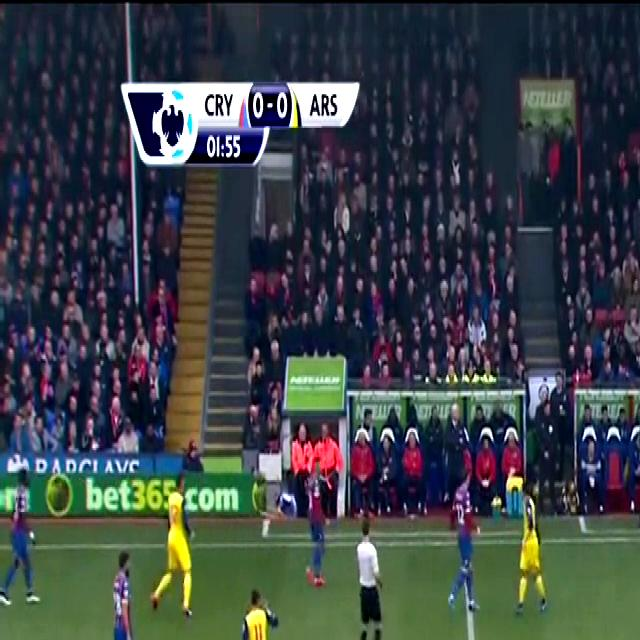referee: (347, 514, 391, 640)
soccer-player: (151, 472, 195, 630), (516, 472, 558, 626), (440, 488, 482, 621), (1, 497, 43, 616), (105, 549, 153, 640), (300, 471, 332, 597), (232, 572, 288, 640)
